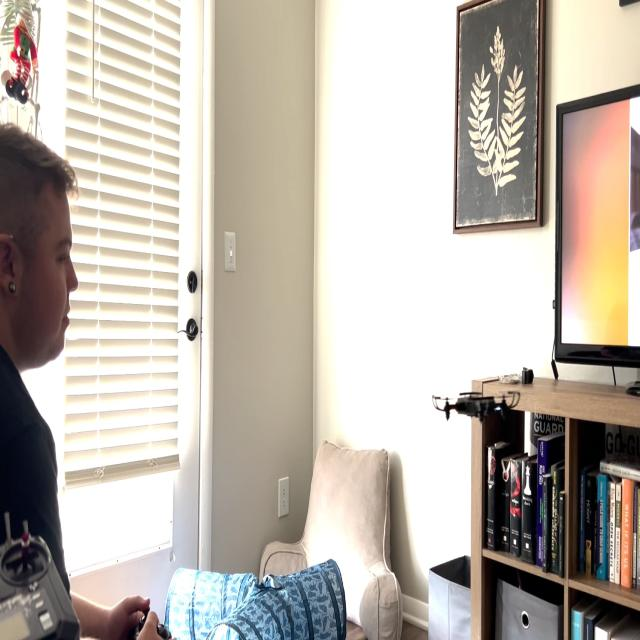drone: (422, 381, 524, 435)
